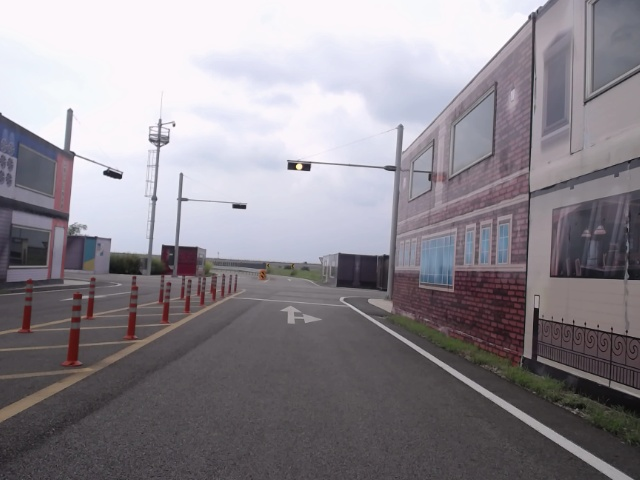orange_3: (287, 160, 311, 172)
